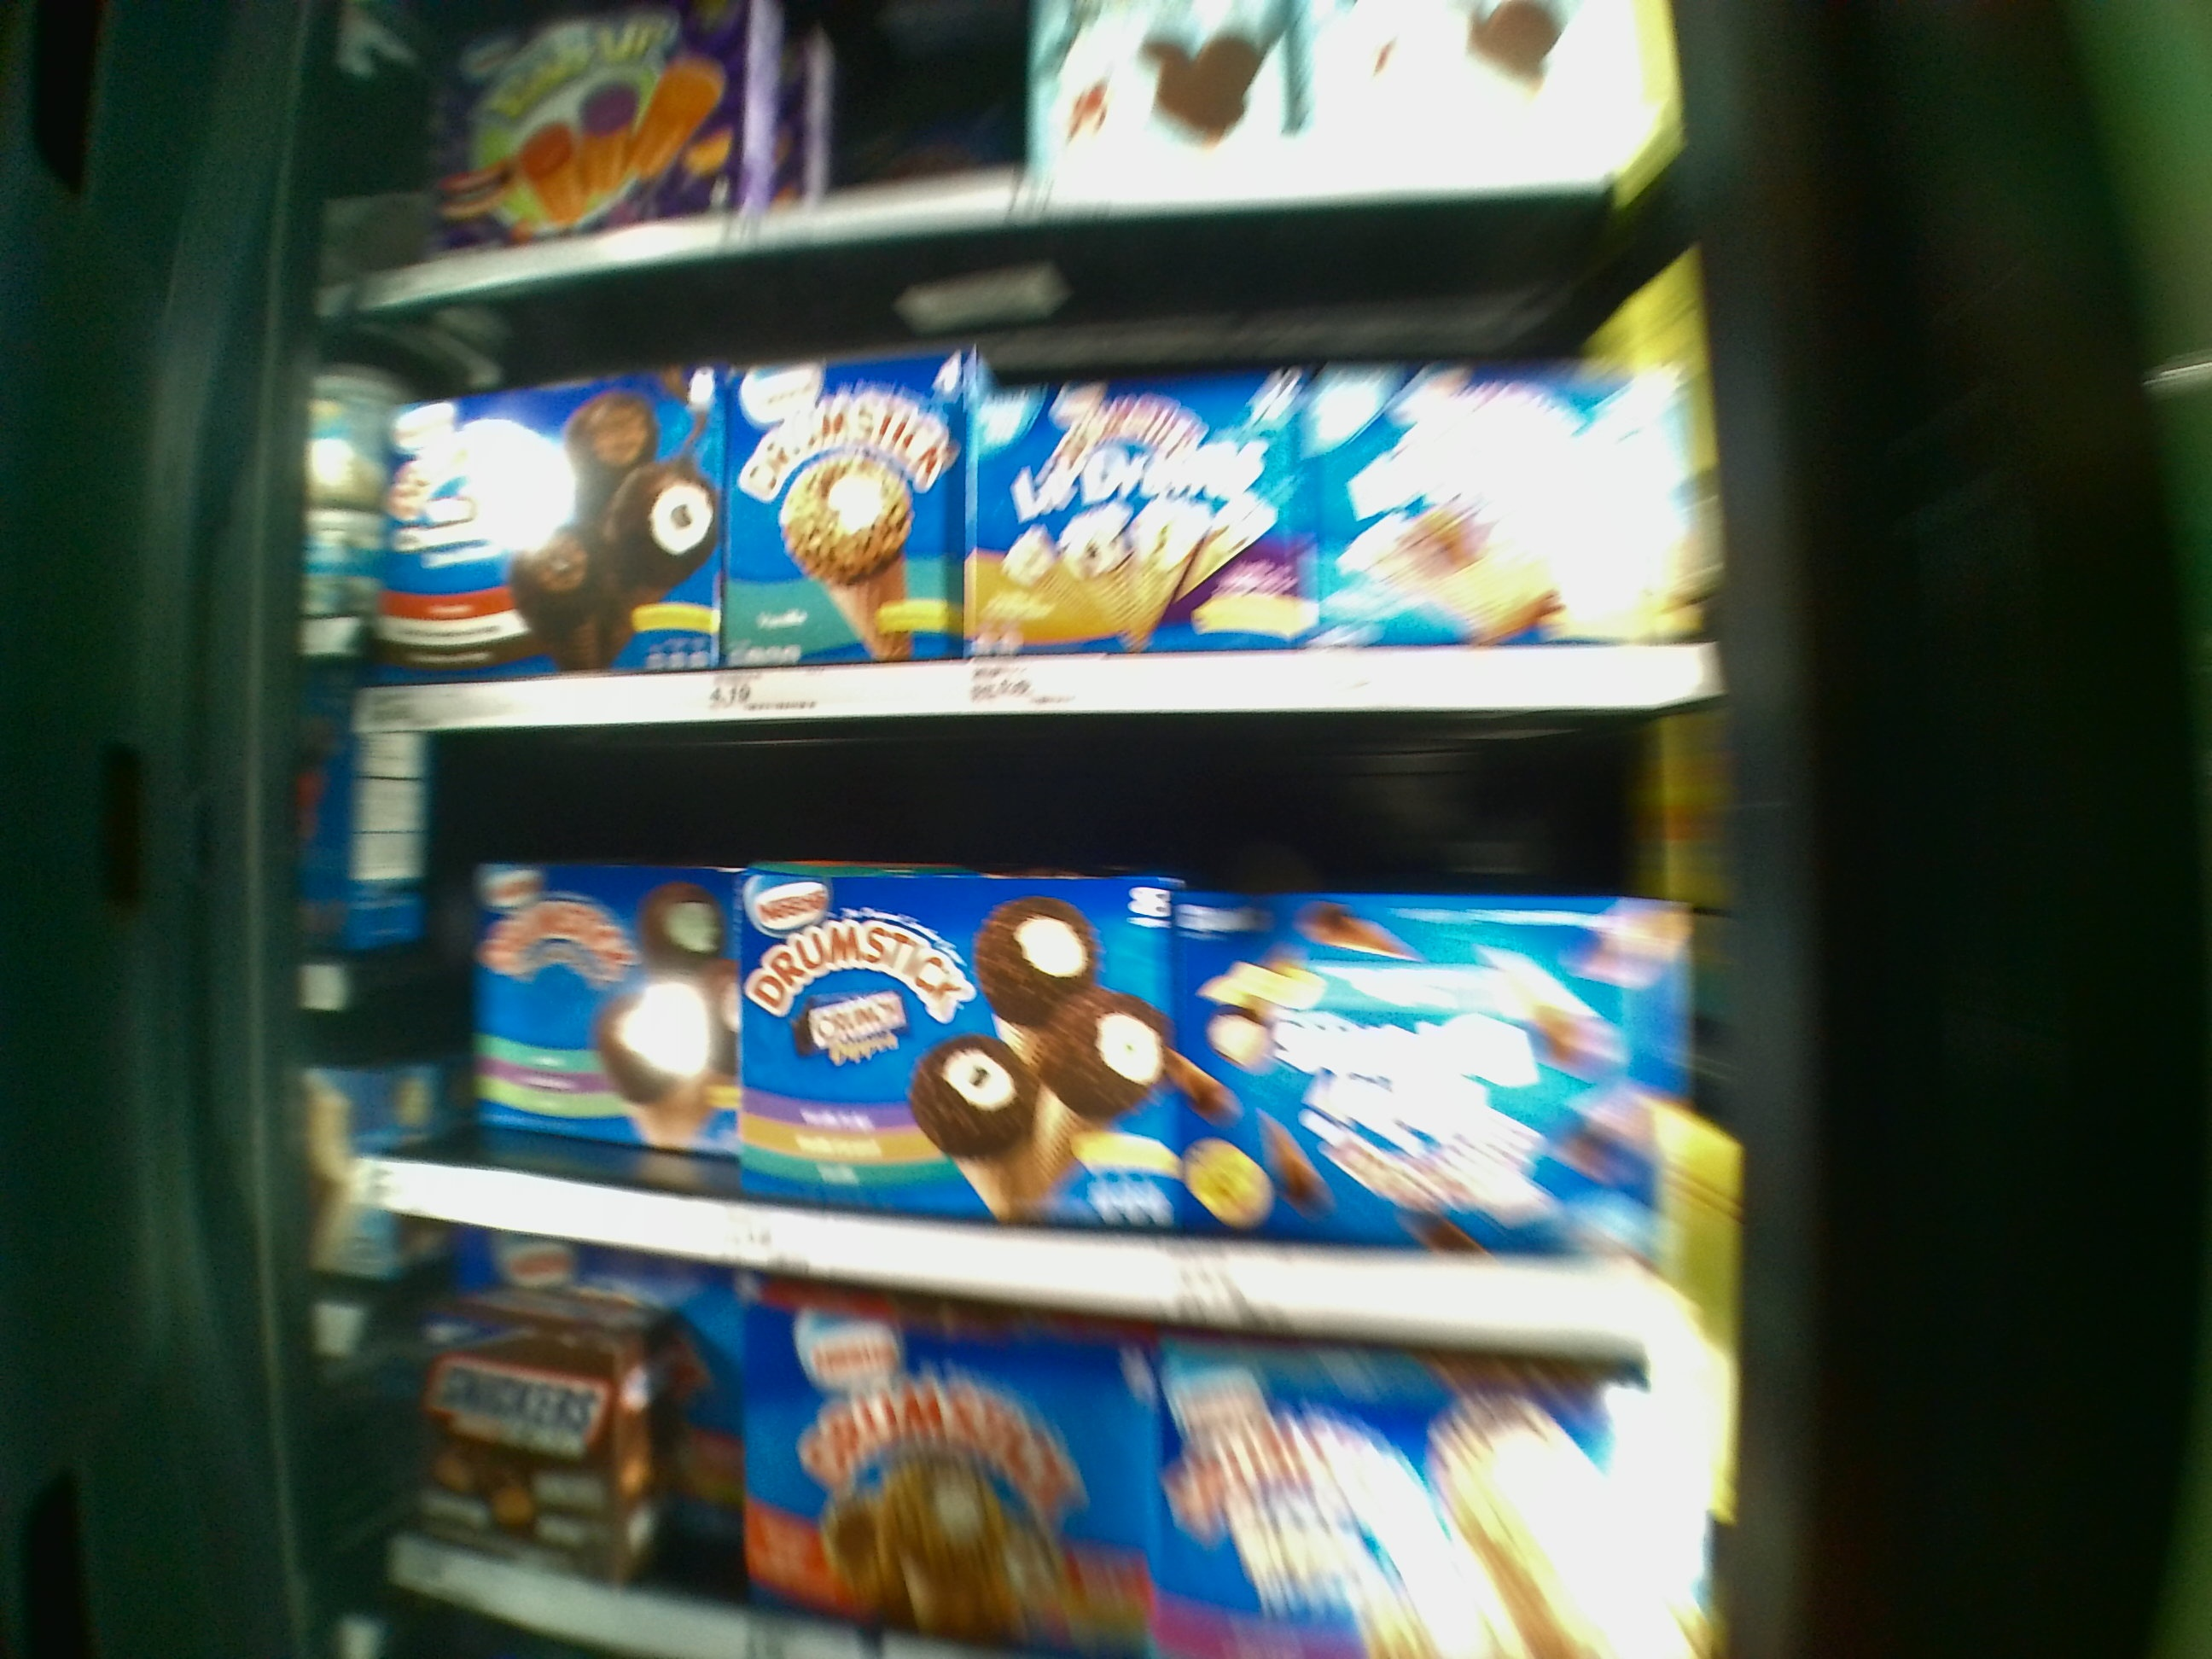shelf: (355, 730, 1677, 1328), (343, 244, 1676, 711)
